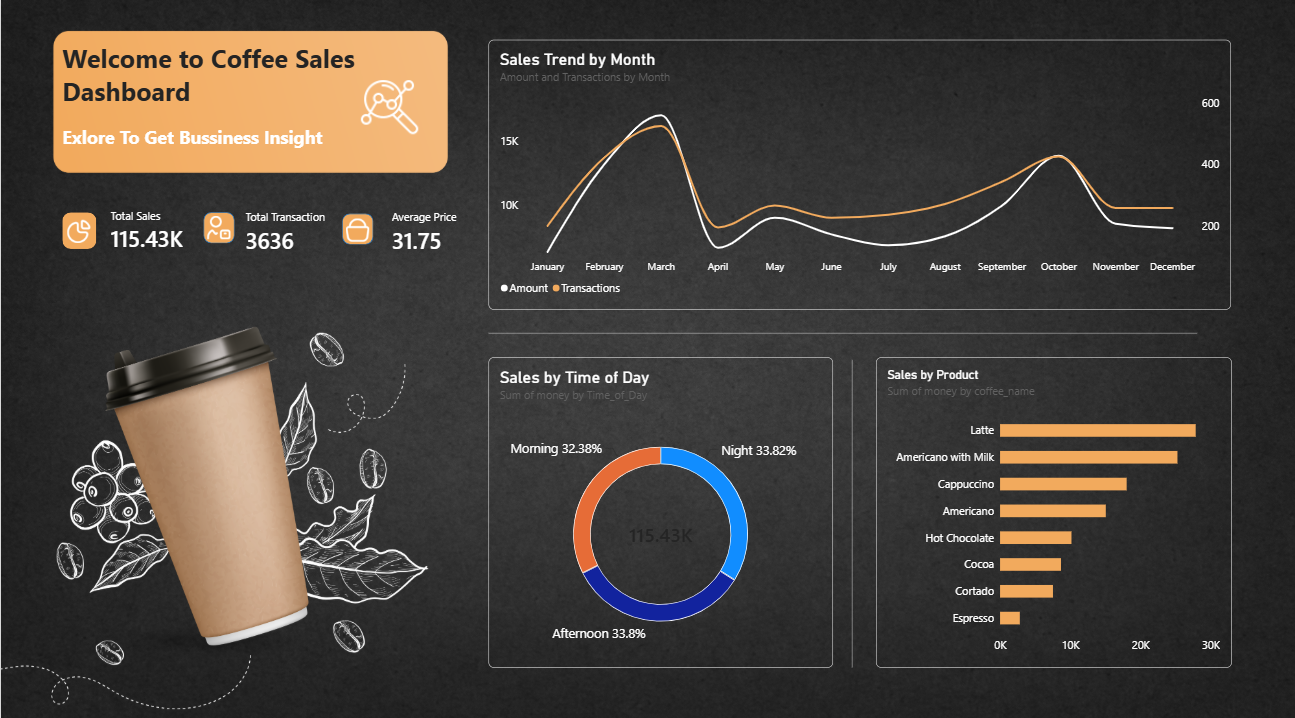

This screenshot's page, from the dashboard's own definition file:
{"tool":"powerbi","page":{"name":"Page 1","canvas":[1920,1080],"ordinal":0},"visuals":[{"type":"textbox","box":[90.6,65.9,570.2,201.7],"z":0},{"type":"textbox","box":[90.6,191.4,409.6,96.7],"z":1000},{"type":"image","box":[409.6,117.3,333.4,100.9],"z":2000},{"type":"shape","box":[90.5,320.3,50.7,54.3],"z":3000},{"type":"image","box":[97.7,331.2,34,34],"z":4000},{"type":"cardVisual","fields":{"Data":["Sum(Table_1.money)"]},"box":[146.6,298.6,160,100],"z":5000},{"type":"shape","box":[300.4,320.3,46,46],"z":6000},{"type":"image","box":[305.8,325.7,34,34],"z":7000},{"type":"cardVisual","fields":{"Data":["CountNonNull(Table_1.coffee_name)"]},"box":[345.6,300.4,160,100],"z":8000},{"type":"shape","box":[504.9,322.1,46,46],"z":9000},{"type":"image","box":[510.3,329.4,34,34],"z":10000},{"type":"cardVisual","fields":{"Data":["Avg(Table_1.money)"]},"box":[562.8,300.4,160,100],"z":11000},{"type":"lineChart","title":"Sales Trend by Month","fields":{"Category":["Table_1.datetime.Variation.Date Hierarchy.Month"],"Y":["Sum(Table_1.money)"],"Y2":["CountNonNull(Table_1.coffee_name)"]},"box":[722.1,65.1,1100,400],"z":12000},{"type":"donutChart","title":"Sales by Time of Day","fields":{"Category":["Table_1.Time_of_Day"],"Y":["Sum(Table_1.money)"]},"box":[722.1,535.7,510.3,459.7],"z":13000},{"type":"clusteredBarChart","title":"Sales by Product","fields":{"Category":["Table_1.coffee_name"],"Y":["Sum(Table_1.money)"]},"box":[1295.7,535.7,527,460],"z":14000},{"type":"shape","box":[722.1,465.1,1050,70],"z":15000},{"type":"shape","box":[1225.1,539.3,70.6,456],"z":16000}]}

Visuals, with their boxes in screenshot pixels (x1, y1, x2, y2), scaled from the page's 1920x1080 canvas onto the 1295x718 screenshot:
textbox: 61, 44, 446, 178
textbox: 61, 127, 337, 192
image: 276, 78, 501, 145
shape: 61, 213, 95, 249
image: 66, 220, 89, 243
cardVisual - Sum(Table_1.money): 99, 199, 207, 265
shape: 203, 213, 234, 244
image: 206, 217, 229, 239
cardVisual - CountNonNull(Table_1.coffee_name): 233, 200, 341, 266
shape: 341, 214, 372, 245
image: 344, 219, 367, 242
cardVisual - Avg(Table_1.money): 380, 200, 488, 266
"Sales Trend by Month" lineChart: 487, 43, 1229, 309
"Sales by Time of Day" donutChart: 487, 356, 831, 662
"Sales by Product" clusteredBarChart: 874, 356, 1229, 662
shape: 487, 309, 1195, 356
shape: 826, 359, 874, 662
